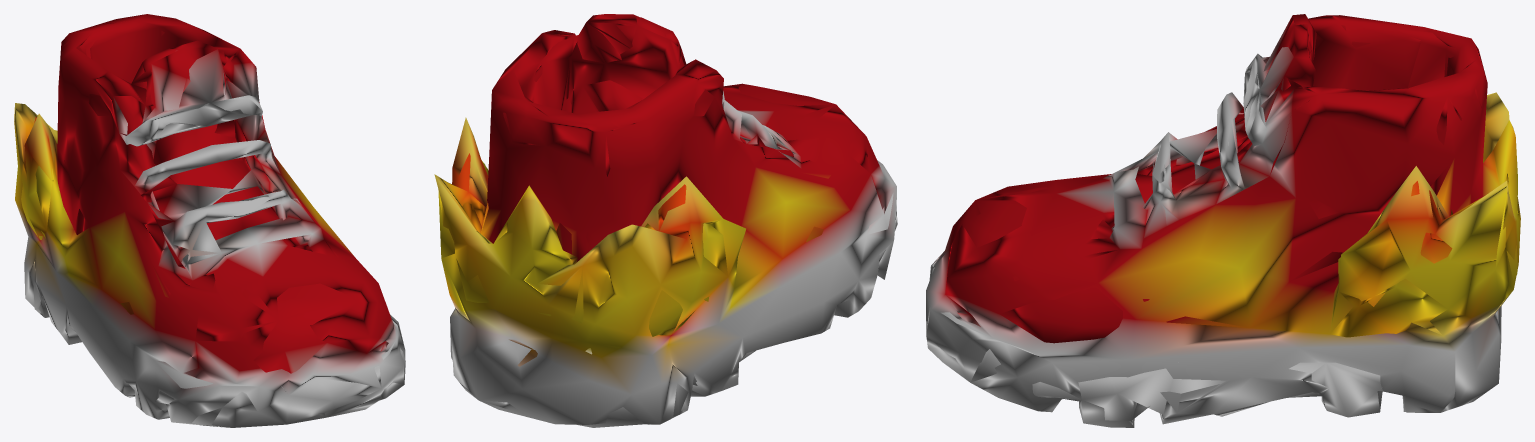
Rendered from gen3d-speed-boot-lod0.glb.
The picture shows the model from 3 angles, left to right: view 1: azimuth 30°, elevation 25°; view 2: azimuth 150°, elevation 25°; view 3: azimuth 270°, elevation 25°; orthographic projection. The views are drawn at different scales.
Visible parts, largest first — view 1: part_0; view 2: part_0; view 3: part_0.
Part boxes in pixels (bbox=[...]): part_0: bbox=[14, 14, 405, 427]; part_0: bbox=[434, 14, 897, 427]; part_0: bbox=[926, 14, 1520, 427].
Size of the model in its own units: 0.8664 by 1 by 1.59.
